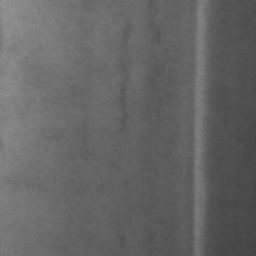Bright scratch: (192, 0, 210, 256)
